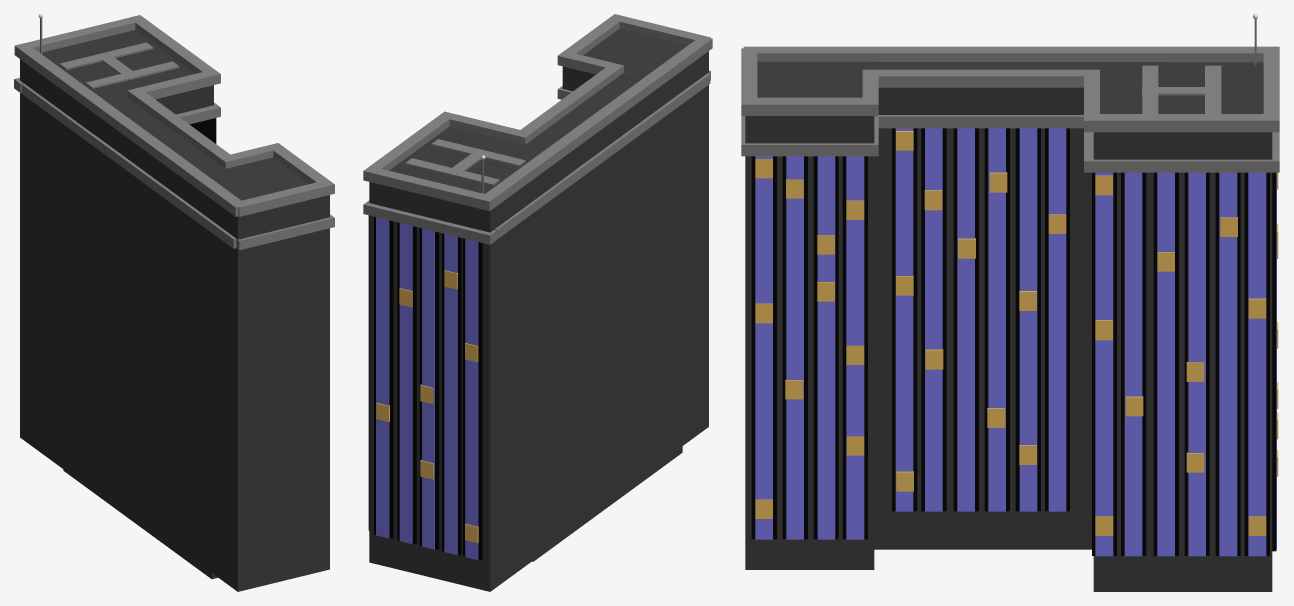
The model's file is New_Building3.fbx.
The picture shows the model from 3 angles, left to right: view 1: azimuth 30°, elevation 25°; view 2: azimuth 150°, elevation 25°; view 3: azimuth 270°, elevation 25°; orthographic projection. The views are drawn at different scales.
Parts seen in each view (by area): view 1: Cube, Cube.002, Cube.001, Cube.006, Cube.021, Cube.008, Cube.003, Cube.005, Cube.012, Cube.011, Cube.009, Cube.022 (+5 smaller); view 2: Cube.001, Cube.002, Cube, Cube.095, Cube.100, Cube.101, Cube.099, Cube.098, Cube.006, Cube.021, Cube.097, Cube.103 (+15 smaller); view 3: Cube.002, Cube.001, Cube, Cube.036, Cube.041, Cube.050, Cube.027, Cube.037, Cube.051, Cube.052, Cube.035, Cube.038 (+37 smaller).
Part boxes in pixels (bbox=[...]): Cube: bbox=[184, 157, 329, 591]; Cube.002: bbox=[63, 75, 219, 579]; Cube.001: bbox=[20, 30, 213, 491]; Cube.006: bbox=[88, 100, 246, 216]; Cube.021: bbox=[21, 83, 236, 248]; Cube.008: bbox=[131, 90, 236, 168]; Cube.003: bbox=[14, 43, 104, 108]; Cube.005: bbox=[238, 182, 334, 216]; Cube.012: bbox=[26, 18, 135, 52]; Cube.011: bbox=[129, 15, 218, 75]; Cube.009: bbox=[127, 72, 220, 101]; Cube.022: bbox=[236, 216, 334, 250]; Cube.001: bbox=[369, 126, 564, 591]; Cube.002: bbox=[488, 76, 682, 561]; Cube: bbox=[562, 28, 708, 465]; Cube.095: bbox=[376, 217, 389, 538]; Cube.100: bbox=[444, 234, 457, 554]; Cube.101: bbox=[399, 223, 412, 543]; Cube.099: bbox=[465, 239, 478, 559]; Cube.098: bbox=[422, 228, 434, 549]; Cube.006: bbox=[558, 36, 712, 155]; Cube.021: bbox=[494, 73, 710, 239]; Cube.097: bbox=[397, 222, 416, 544]; Cube.103: bbox=[442, 233, 461, 555]; Cube.002: bbox=[874, 62, 1168, 549]; Cube.001: bbox=[1093, 62, 1272, 591]; Cube: bbox=[745, 61, 874, 569]; Cube.036: bbox=[1219, 172, 1237, 556]; Cube.041: bbox=[1124, 172, 1142, 556]; Cube.050: bbox=[1048, 128, 1066, 511]; Cube.027: bbox=[817, 156, 835, 539]; Cube.037: bbox=[1248, 172, 1266, 556]; Cube.051: bbox=[1019, 128, 1037, 511]; Cube.052: bbox=[957, 128, 974, 511]; Cube.035: bbox=[1157, 172, 1174, 556]; Cube.038: bbox=[1188, 172, 1205, 556].
Size of the model in its own units: 907 by 2932 by 2767.
